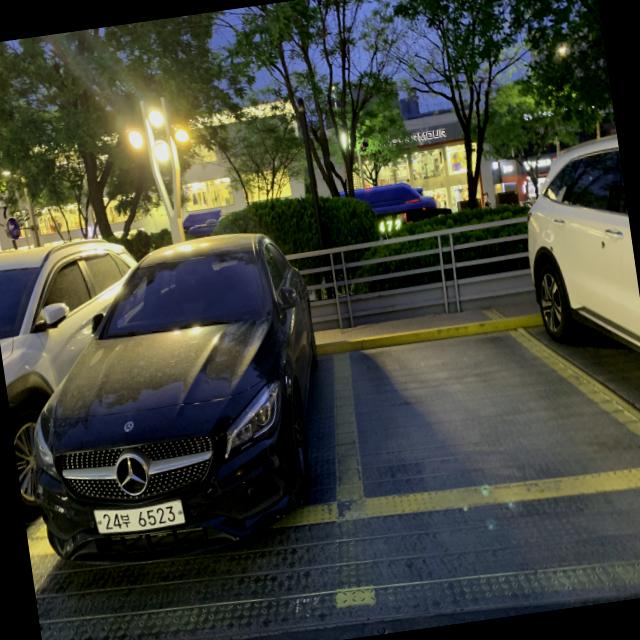car: (0, 228, 349, 572)
free: (329, 306, 640, 516)
